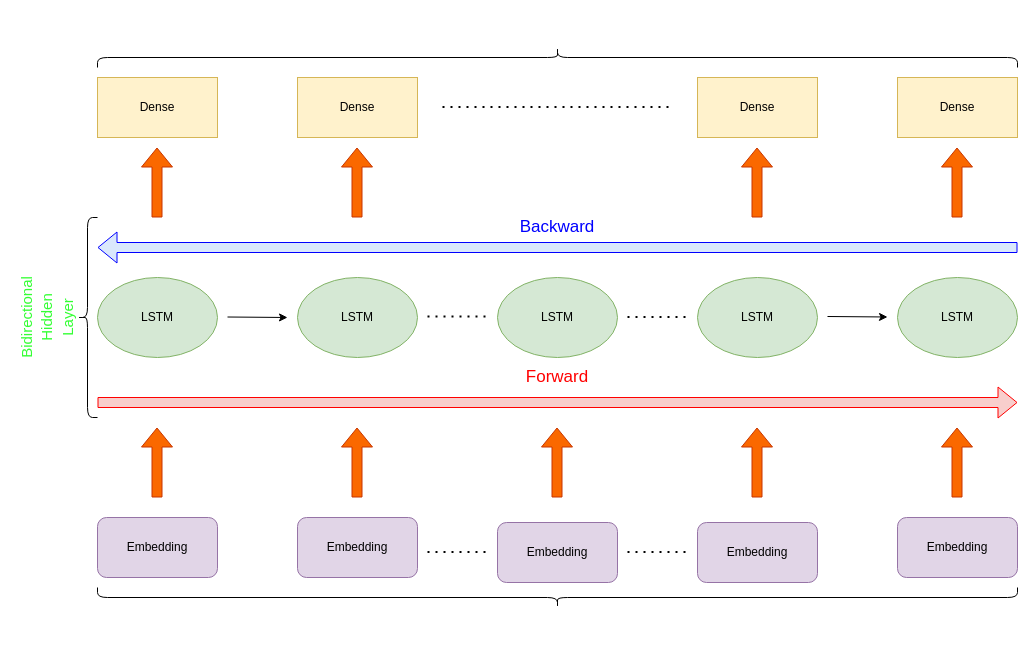
This 1035x654 diagram has some shape labels left out. Here are the shapes that lost their labels. From the top down, the centre of each, then its label:
At [557,57]: "Output Layer".
At [557,597]: "Input Layer".
